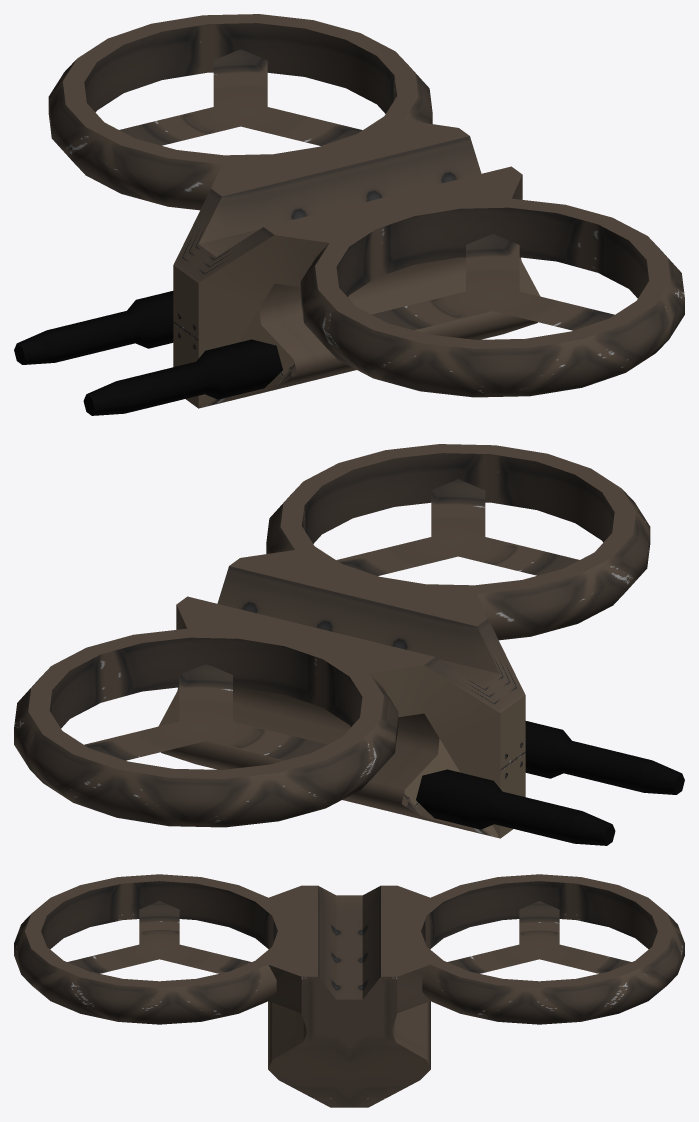
Rendered from Drone 1.fbx.
3 views of the same model, one above another, from view 1: azimuth 30°, elevation 25°; view 2: azimuth 150°, elevation 25°; view 3: azimuth 270°, elevation 25° (orthographic). The views are drawn at different scales.
Parts seen in each view (by area): view 1: Drone, Drone_Gun, Drone_Prop_R, Drone_Prop_L; view 2: Drone, Drone_Gun, Drone_Prop_L, Drone_Prop_R; view 3: Drone, Drone_Prop_L, Drone_Prop_R.
Part boxes in pixels (x1,y1,x2,y2): Drone: (48, 14, 684, 408); Drone_Gun: (14, 291, 282, 415); Drone_Prop_R: (119, 49, 362, 145); Drone_Prop_L: (371, 233, 614, 330); Drone: (14, 444, 650, 838); Drone_Gun: (416, 721, 684, 845); Drone_Prop_L: (336, 479, 579, 575); Drone_Prop_R: (84, 663, 327, 760); Drone: (14, 874, 684, 1107); Drone_Prop_L: (67, 901, 251, 973); Drone_Prop_R: (447, 901, 631, 973).
Bounding box in the file's own units: 3.1 × 1.07 × 4.98.
